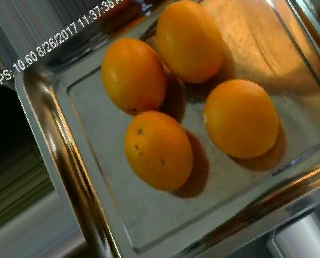Orange: (202, 77, 279, 159), (123, 110, 195, 192), (154, 1, 224, 84), (101, 36, 167, 115)
